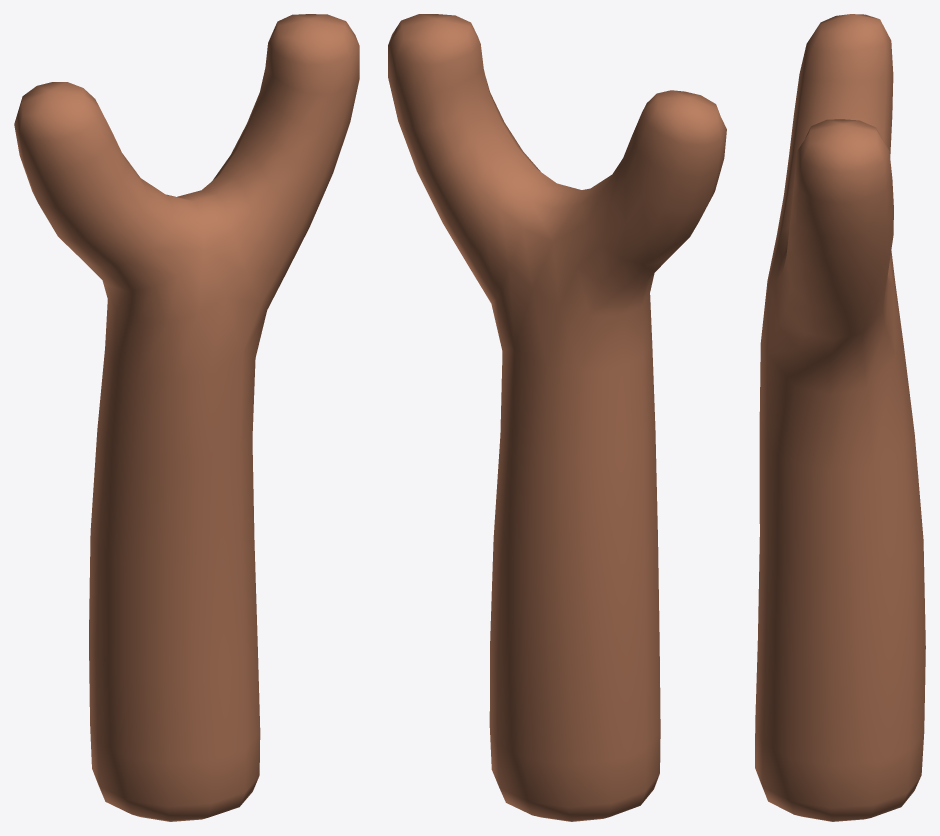
File: Tree_Btm_B_01.fbx
3 views of the same model, side by side, from view 1: azimuth 30°, elevation 25°; view 2: azimuth 150°, elevation 25°; view 3: azimuth 270°, elevation 25° (orthographic).
Parts seen in each view (by area): view 1: Tree_Btm_B_01_LOD0; view 2: Tree_Btm_B_01_LOD0; view 3: Tree_Btm_B_01_LOD0.
Boxes of the visible parts, x1,y1,x2,y2 form: Tree_Btm_B_01_LOD0: (14,14,359,821); Tree_Btm_B_01_LOD0: (388,14,726,821); Tree_Btm_B_01_LOD0: (755,14,925,821).
Size of what is drawn, in the model's own units: 217 by 466 by 97.28.
